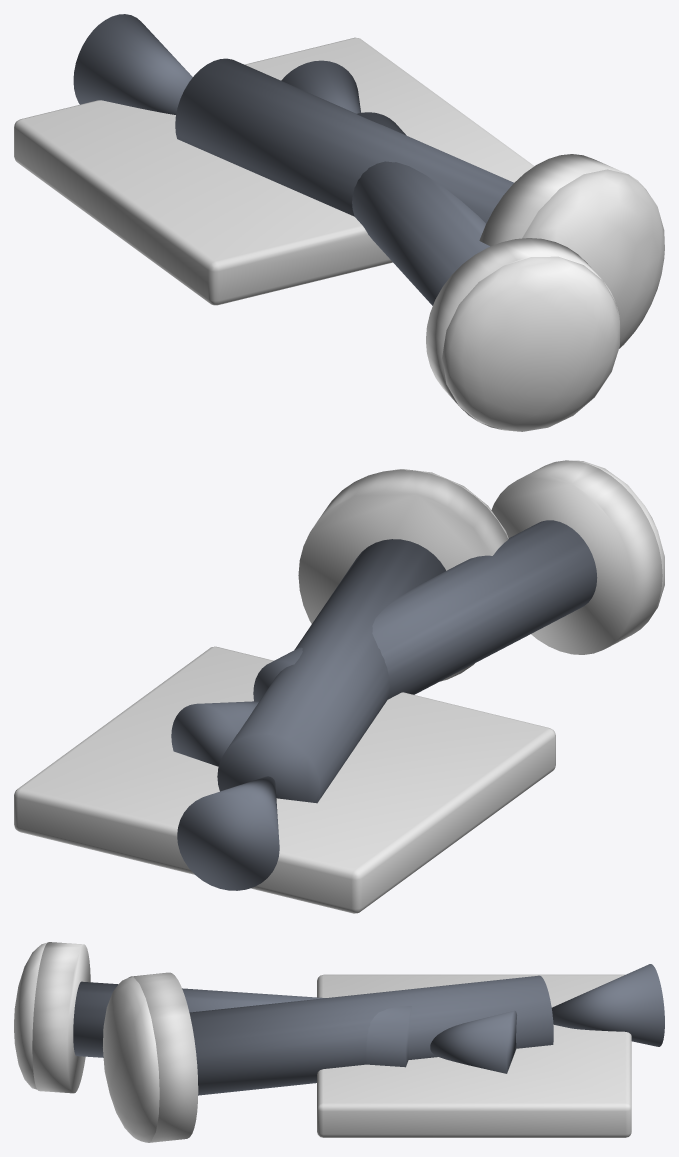
File: nail-pickup.obj
3 views of the same model, one above another, from view 1: azimuth 30°, elevation 25°; view 2: azimuth 150°, elevation 25°; view 3: azimuth 270°, elevation 25° (orthographic). The views are drawn at different scales.
Parts seen in each view (by area): view 1: nail-pickup; view 2: nail-pickup; view 3: nail-pickup.
Boxes of the visible parts, box(x1,y1,x2,y2) form: nail-pickup: box(14, 14, 664, 431); nail-pickup: box(14, 460, 664, 913); nail-pickup: box(14, 942, 664, 1142).
Bounding box in the file's own units: 0.1 × 0.0532 × 0.2068.
